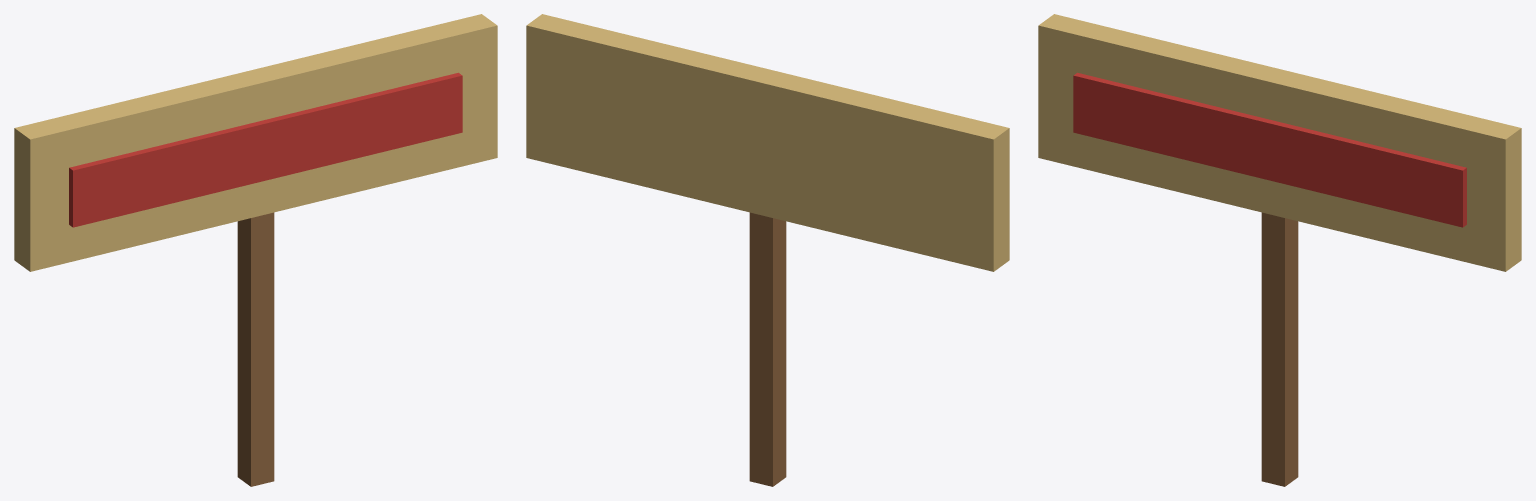
File: Mush_MapProp_DestinationSign_V2.fbx
3 views of the same model, side by side, from view 1: azimuth 30°, elevation 25°; view 2: azimuth 150°, elevation 25°; view 3: azimuth 330°, elevation 25° (orthographic).
Parts seen in each view (by area): view 1: Mush_MapProp_DestinationSign_V2; view 2: Mush_MapProp_DestinationSign_V2; view 3: Mush_MapProp_DestinationSign_V2.
Boxes of the visible parts, x1=… form: Mush_MapProp_DestinationSign_V2: x1=14, y1=14, x2=497, y2=486; Mush_MapProp_DestinationSign_V2: x1=526, y1=14, x2=1009, y2=486; Mush_MapProp_DestinationSign_V2: x1=1038, y1=14, x2=1521, y2=486.
Size of the model in its own units: 240 by 198 by 17.5.
